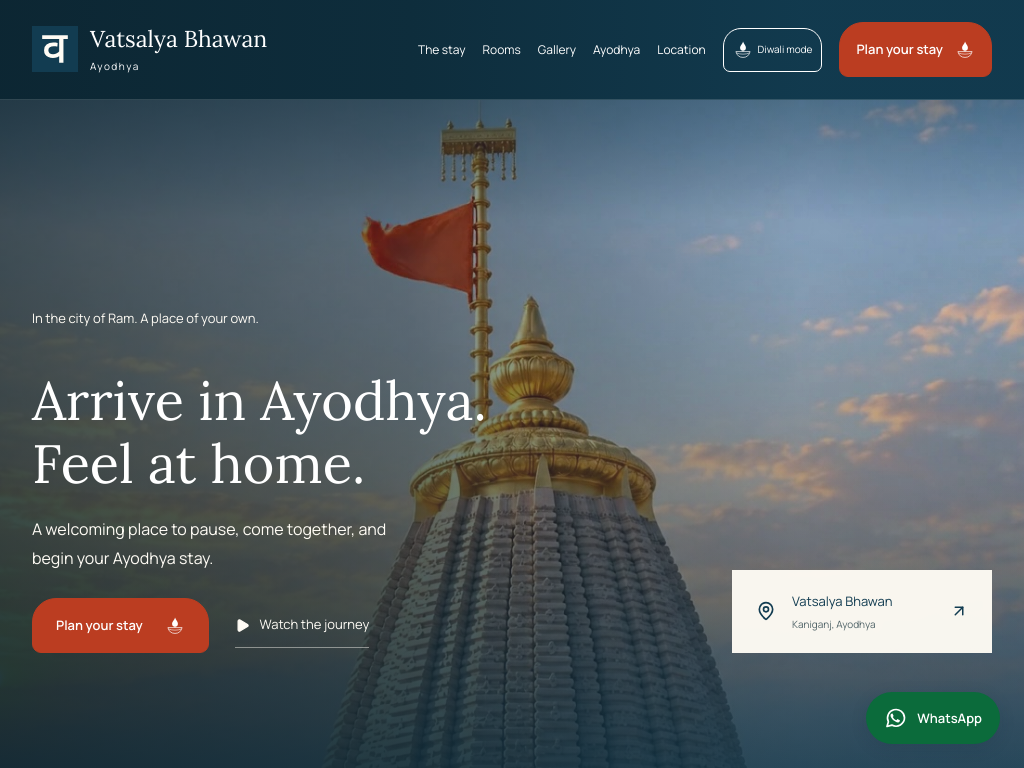
Test: blocked autoplay reveals the normal page immediately
Expected: the heading "Arrive in Ayodhya.Feel at home." is shown, [32,366,487,498]
Click the button "Plan your stay" below "Feel at home." at (120, 626), box [32,598,209,653]
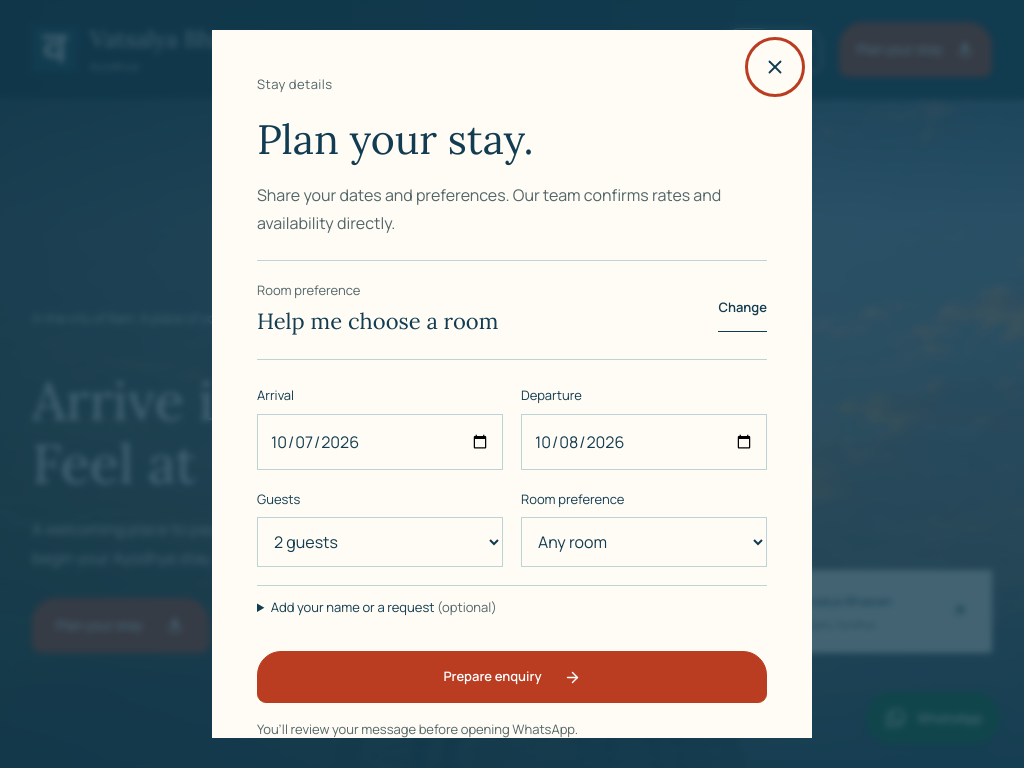
Result: the dialog "Plan your stay" is shown at [212,30,812,738]
Result: the button "Prepare enquiry" is enabled at [257,651,767,703]
